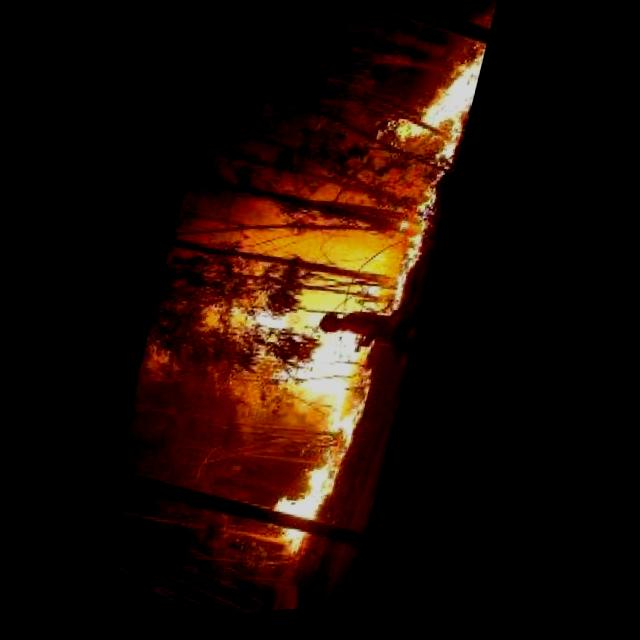Fire: (148, 237, 398, 576), (361, 45, 486, 247)
